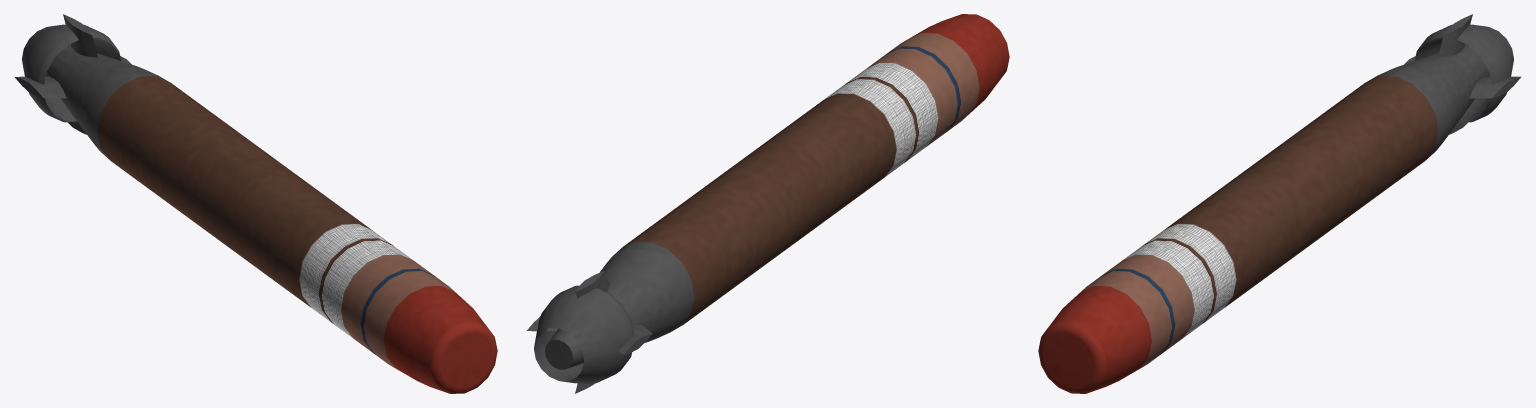
Rendered from mk46_torpedo.fbx.
3 views of the same model, side by side, from view 1: azimuth 30°, elevation 25°; view 2: azimuth 150°, elevation 25°; view 3: azimuth 330°, elevation 25° (orthographic).
Parts seen in each view (by area): view 1: Object001; view 2: Object001; view 3: Object001.
Part boxes in pixels (x1,y1,x2,y2): Object001: (15,14,497,393); Object001: (527,14,1009,393); Object001: (1038,14,1521,393).
Size of the model in its own units: 0.5936 by 4.44 by 0.5936.
1 material, 1 textured.
